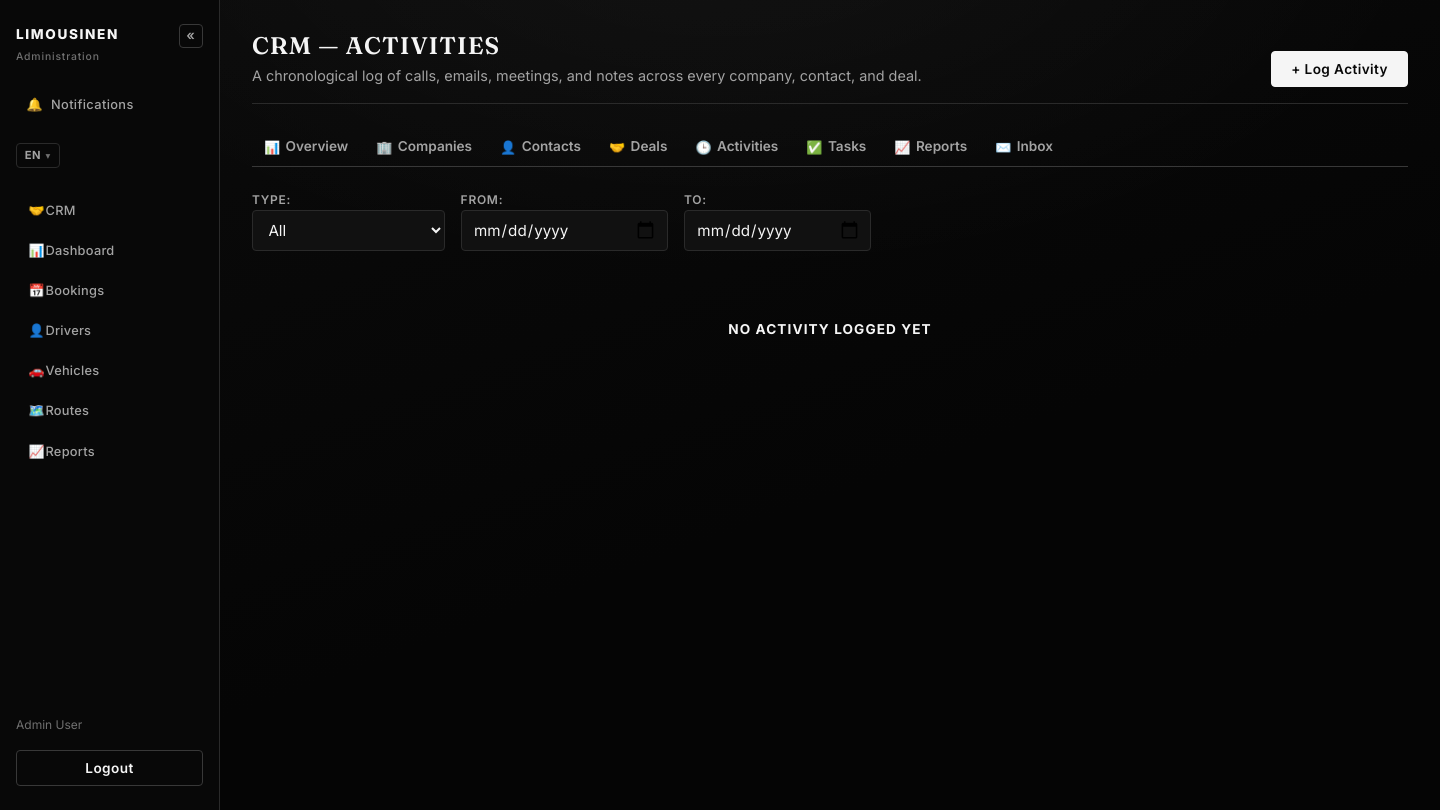
Test case: CrmActivitiesPage › logs a new activity
Expected: the text "No Activity Logged Yet" is shown, [728,321,932,337]
Click the button "+ Log Activity".
click(1340, 69)  # box [1271,52,1408,87]
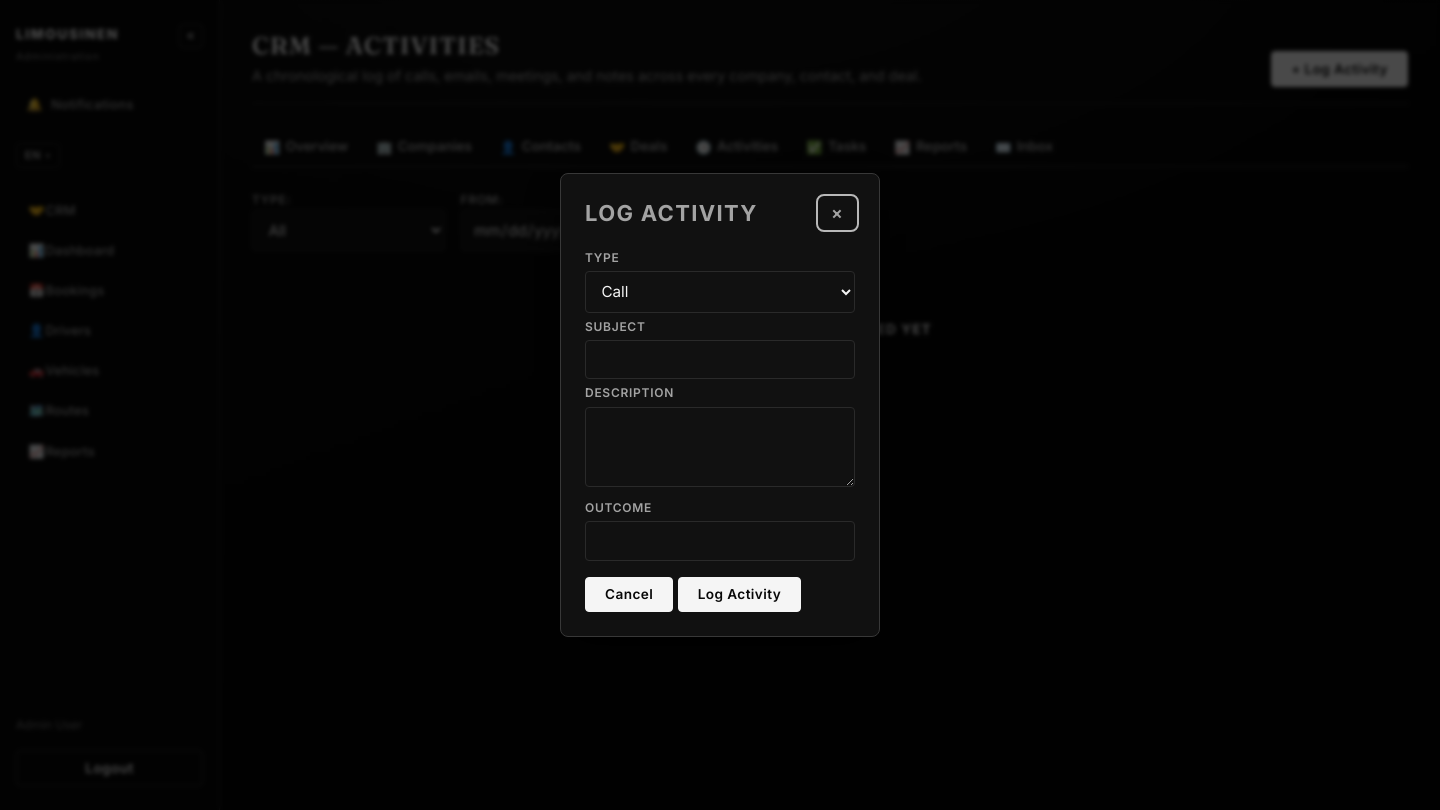
Type "Discussed contract terms" into the field labelled "Subject".
click(720, 360); type("Discussed contract terms")  # box [585,340,855,379]
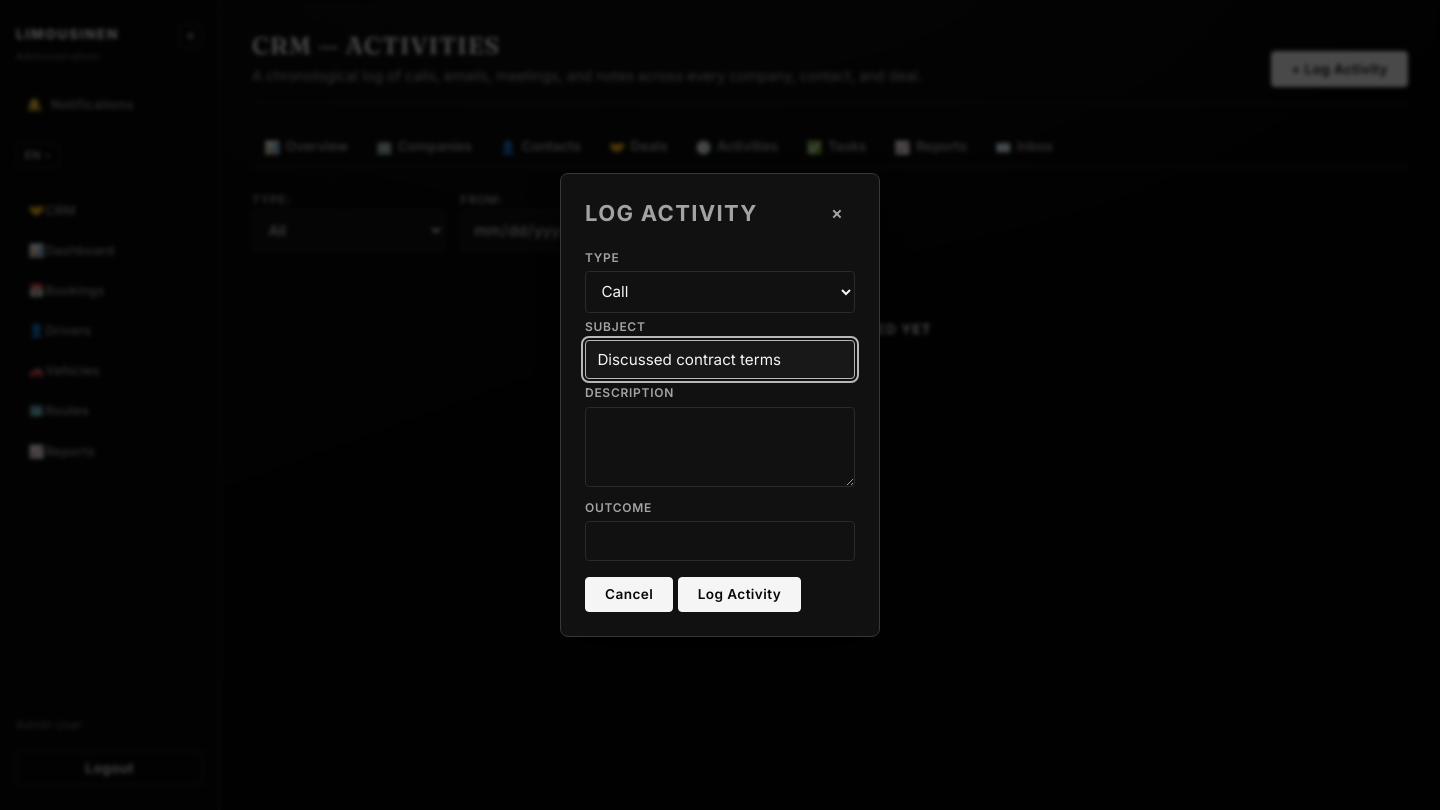
Click the button "Log Activity".
click(739, 594)  # box [678,577,801,612]
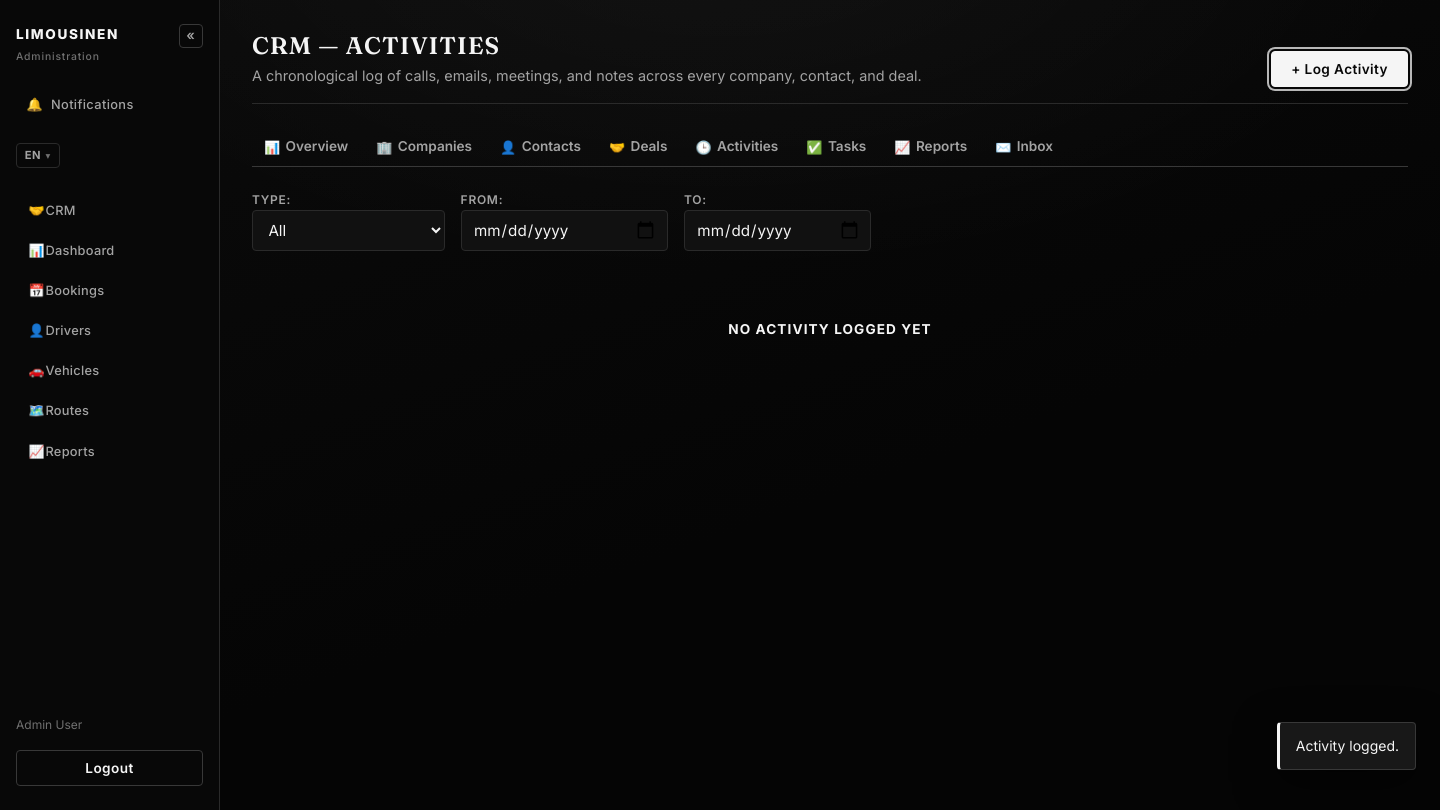
Expected: the text "Activity logged." is shown, [1277,722,1416,770]
